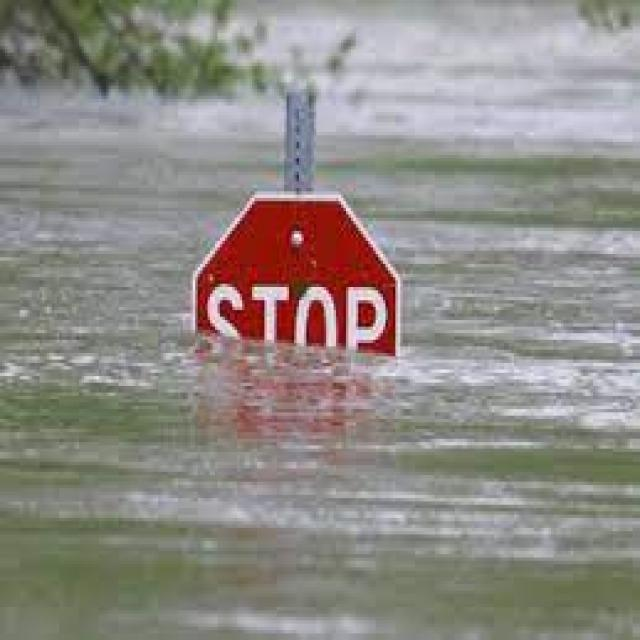stop-sign: (192, 213, 402, 376)
